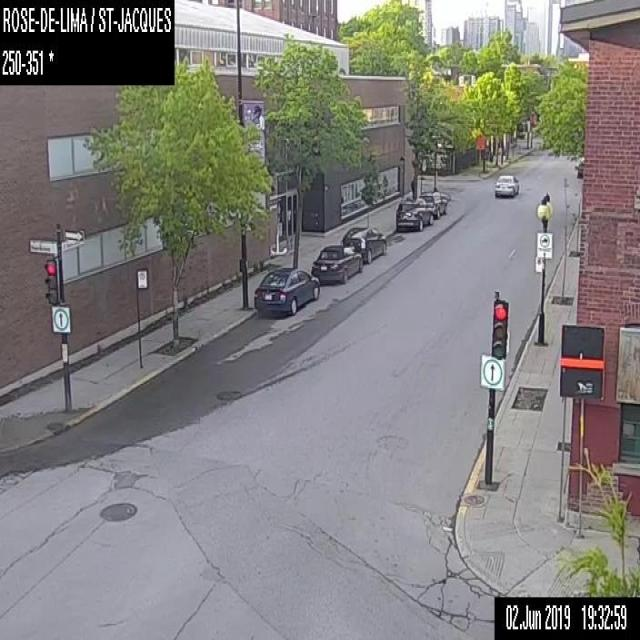pedestrian: (409, 177, 415, 199)
vehicle: (252, 266, 319, 315), (311, 244, 363, 282), (341, 225, 387, 262), (394, 196, 434, 231), (418, 189, 449, 215), (493, 172, 519, 196)
